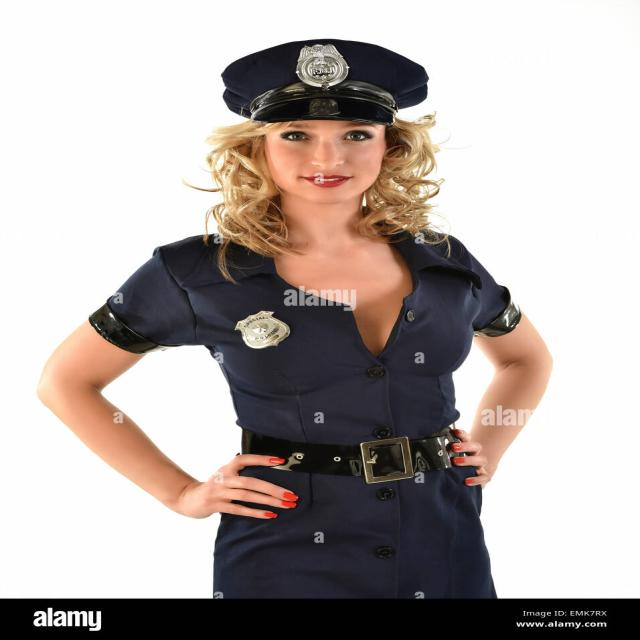police: (52, 3, 551, 585)
